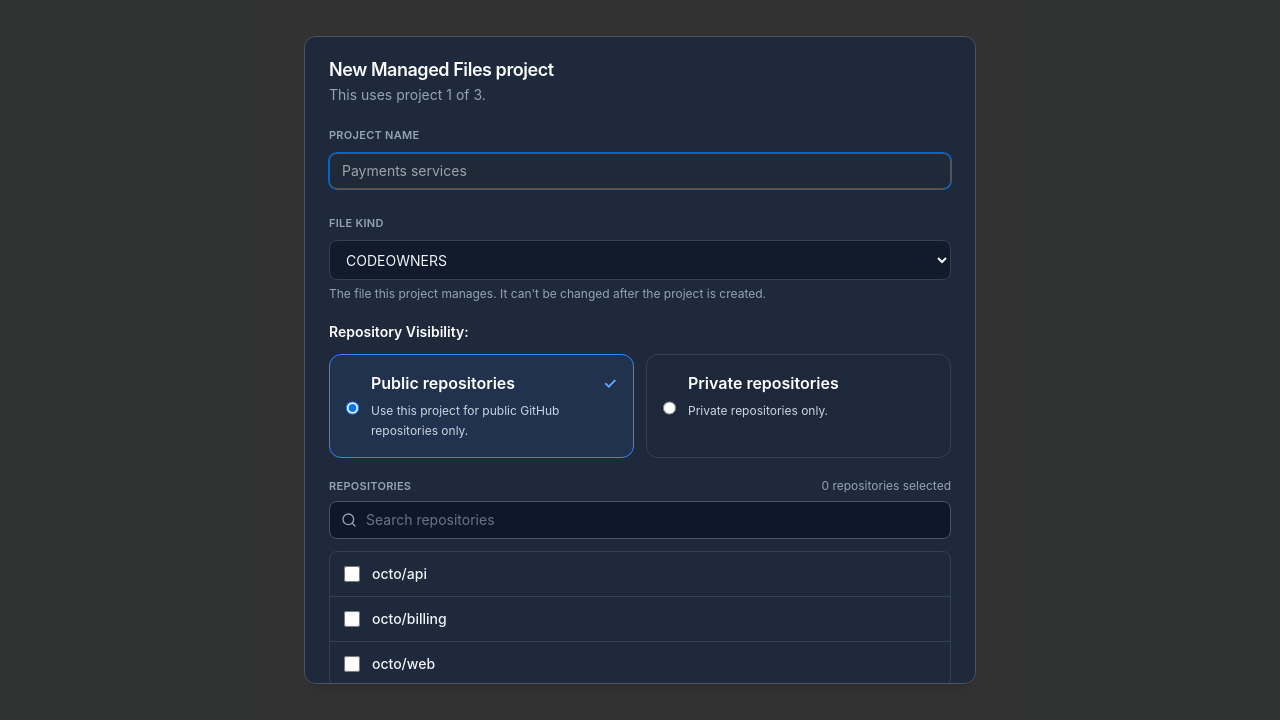
Scenario: NewManagedFilesProjectDialog › switching visibility lists the other repositories and clears the selection
Click the checkbox with test id "available-checkbox-octo/api": [352, 574] box [344, 566, 360, 582]
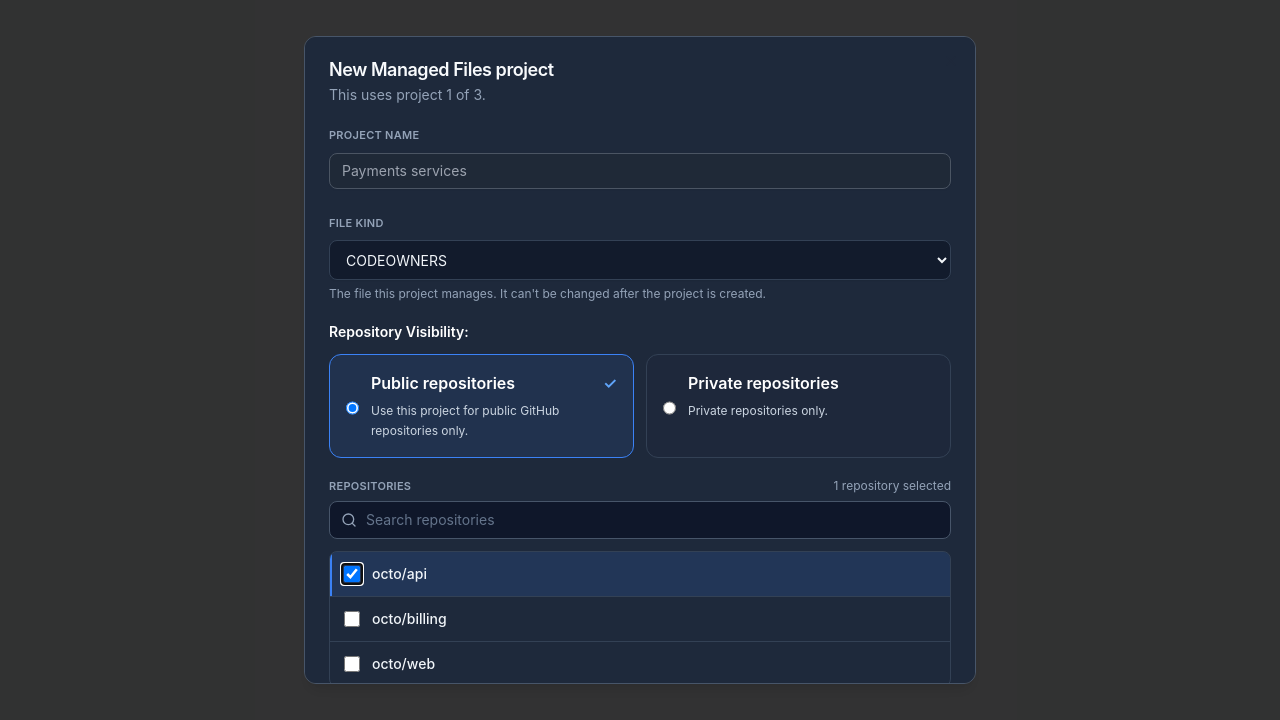
Click the label with test id "visibility-option-private": [798, 406] box [646, 354, 951, 458]
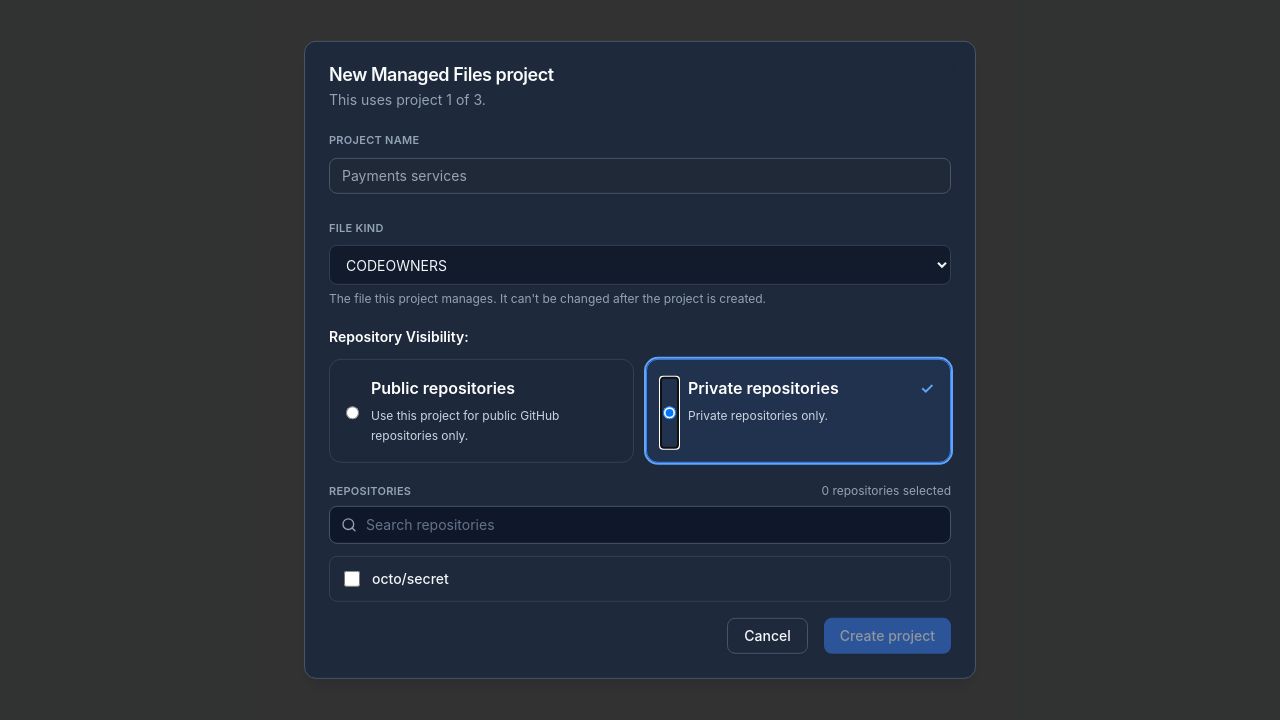
Check: the text with test id "managed-files-selected-count" reads "0 repositories selected", box [822, 483, 951, 498]
Check: the text "octo/secret" is shown, box [344, 570, 449, 587]
Check: the label with test id "available-repo-octo/api" is gone
